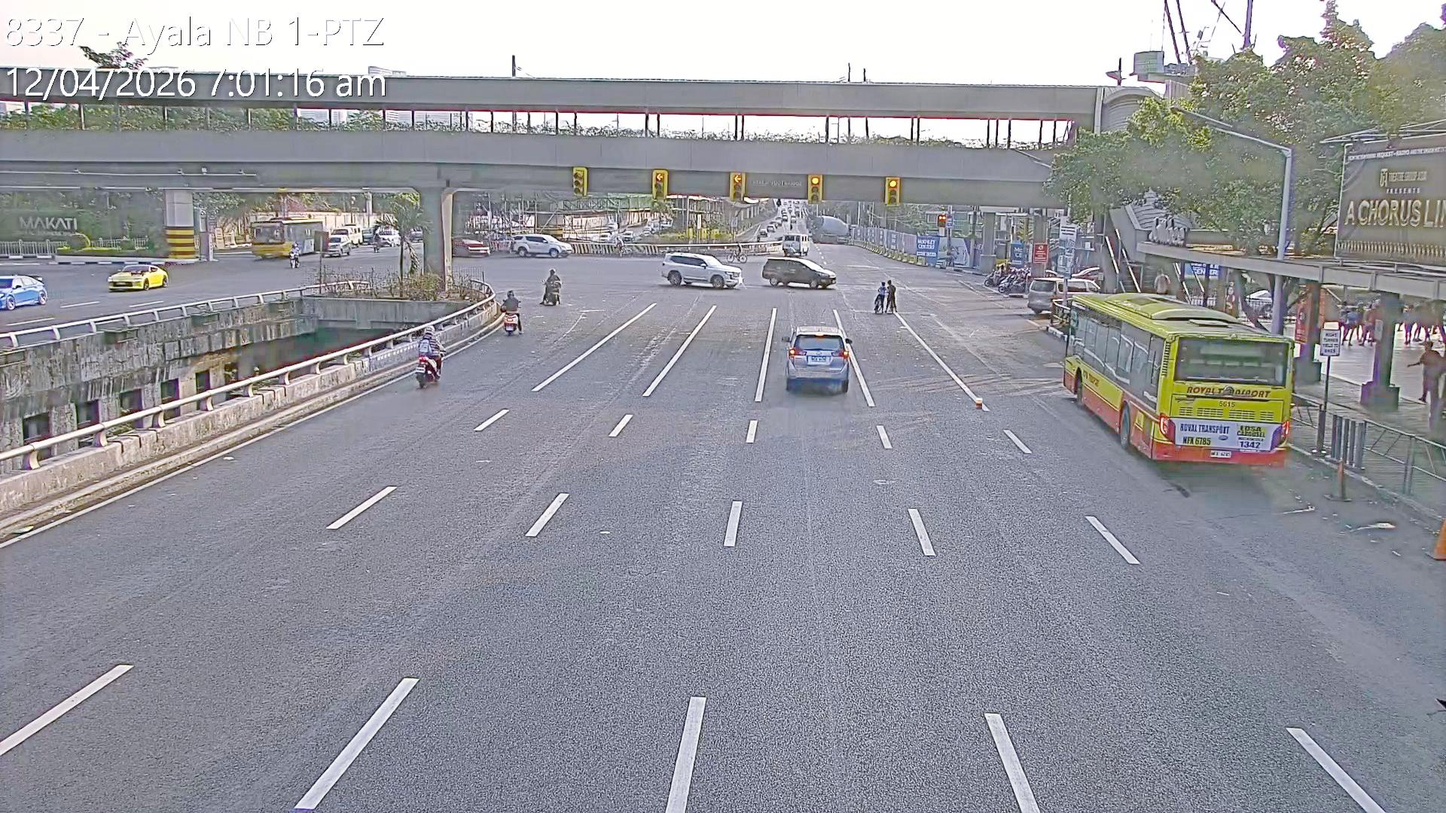Car: (780, 317, 859, 406), (1030, 277, 1103, 318), (663, 251, 741, 288), (762, 256, 837, 289), (108, 261, 169, 291), (0, 275, 47, 311), (512, 234, 574, 258), (452, 234, 491, 256), (331, 222, 363, 247), (326, 232, 352, 258), (782, 233, 810, 256), (373, 228, 400, 247), (616, 230, 640, 243), (758, 227, 770, 241)
Motor: (415, 323, 446, 388), (998, 264, 1030, 299), (981, 259, 1013, 290), (502, 290, 523, 336), (544, 268, 562, 303), (289, 241, 302, 268)
Not Accident: (245, 215, 410, 269), (979, 256, 1102, 320)
